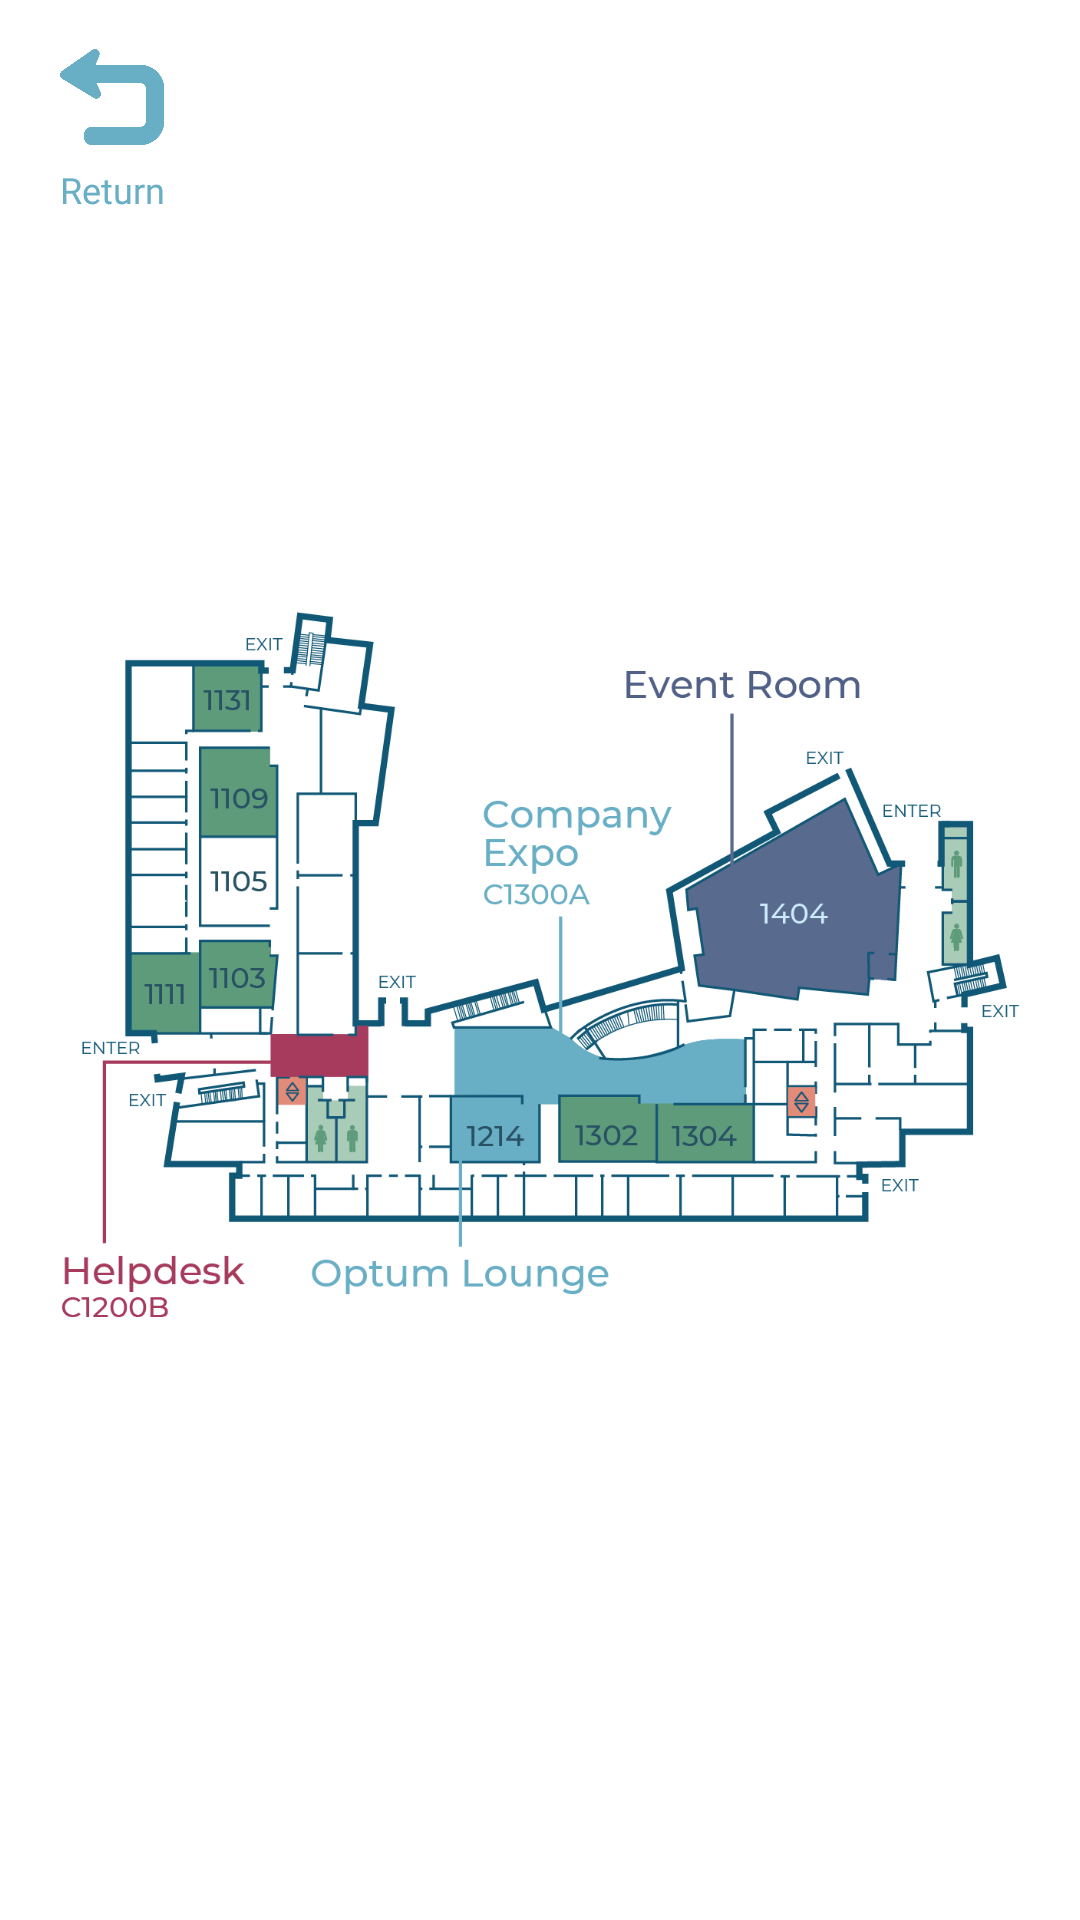

Icon click points for this 1080*1920 phone screenshot, format point (x, y):
reply arrow: point (112, 97)
